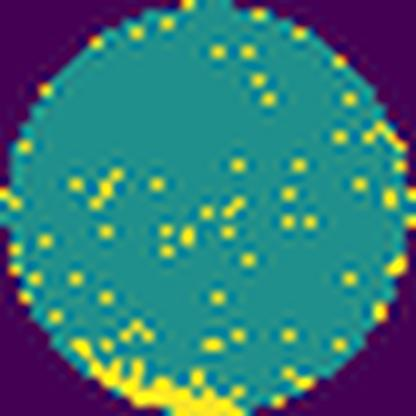Edge-Loc: (76, 333, 251, 415)
